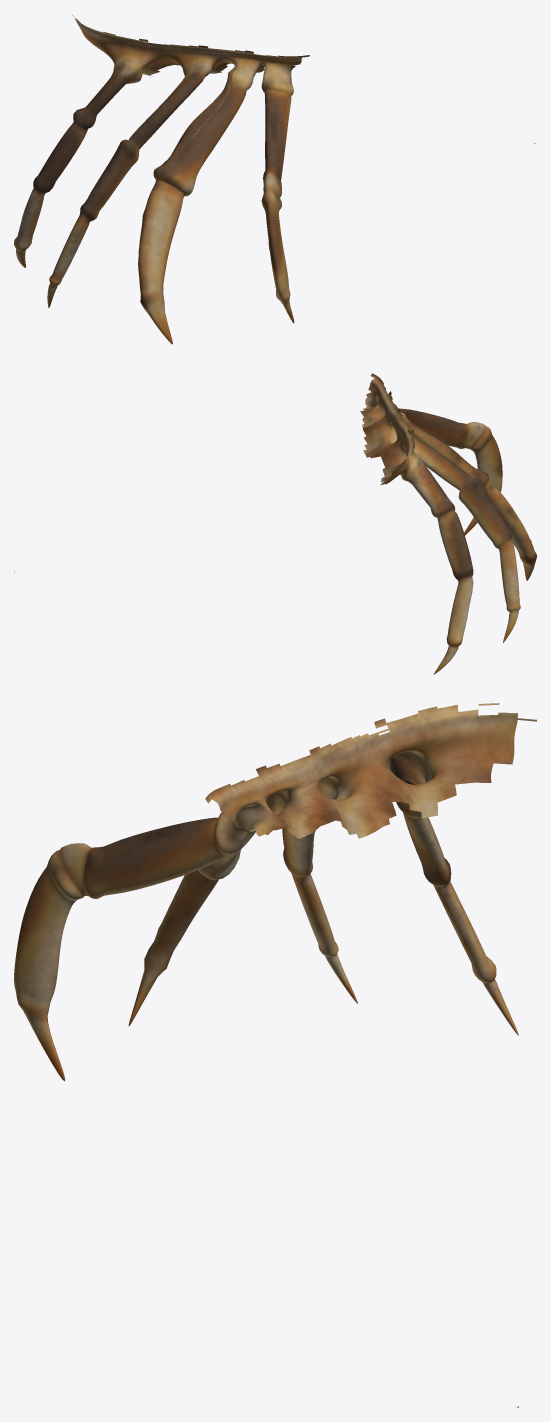
The model's file is patasder.obj.
3 views of the same model, one above another, from view 1: azimuth 30°, elevation 25°; view 2: azimuth 150°, elevation 25°; view 3: azimuth 270°, elevation 25° (orthographic). The views are drawn at different scales.
Parts seen in each view (by area): view 1: Crab_Obj_crab_01; view 2: Crab_Obj_crab_01; view 3: Crab_Obj_crab_01.
Part boxes in pixels (box(x1,y1,x2,y2)): Crab_Obj_crab_01: box(14, 15, 535, 344); Crab_Obj_crab_01: box(14, 373, 536, 674); Crab_Obj_crab_01: box(14, 703, 536, 1407).
Bounding box in the file's own units: 12.82 × 5.48 × 7.04.
Materials: 1 (1 with a texture image).
